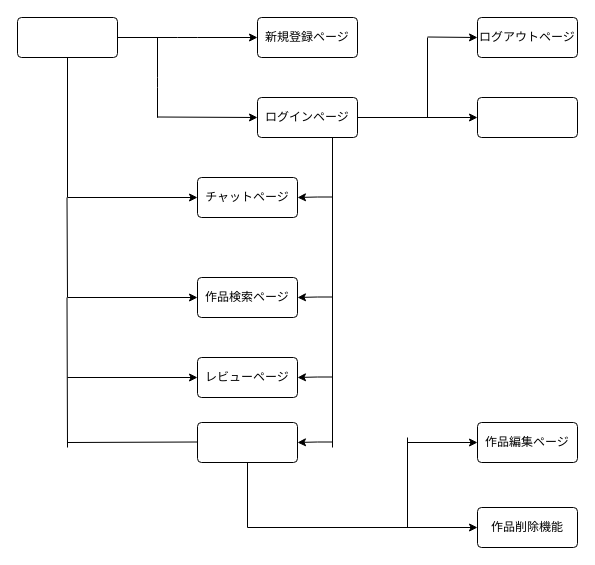
The diagram is 595 pixels wide and 565 high, and some of its shapes have lost their labels. Each missing label, with the box of its shape:
top_page: (16, 16, 118, 58)
作品投稿ページ: (476, 96, 578, 138)
作品詳細ページ: (196, 422, 298, 462)
